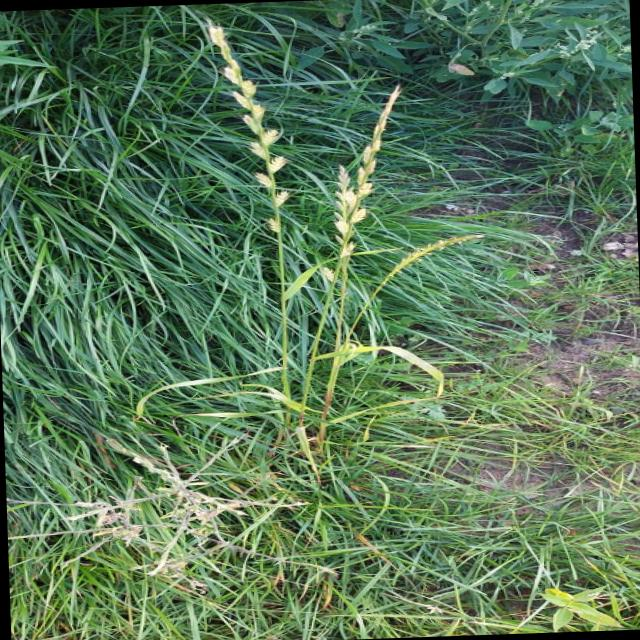Lolium: (195, 25, 298, 230), (332, 85, 420, 252)
